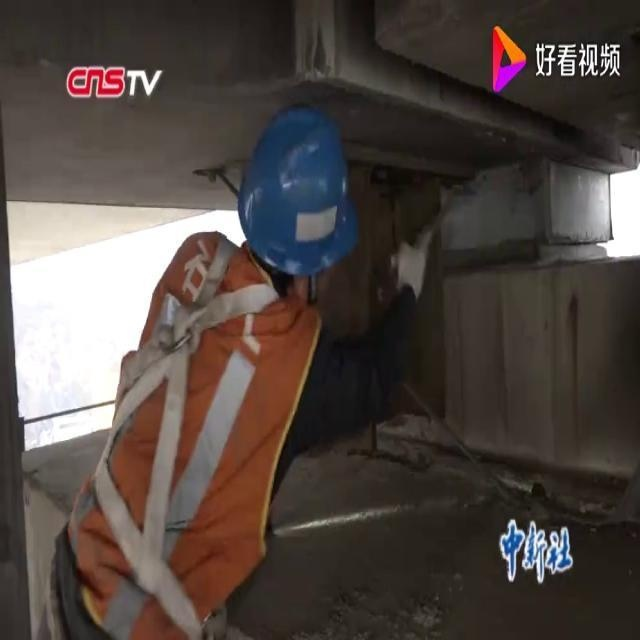Arnes_seguridad: (86, 220, 285, 639)
